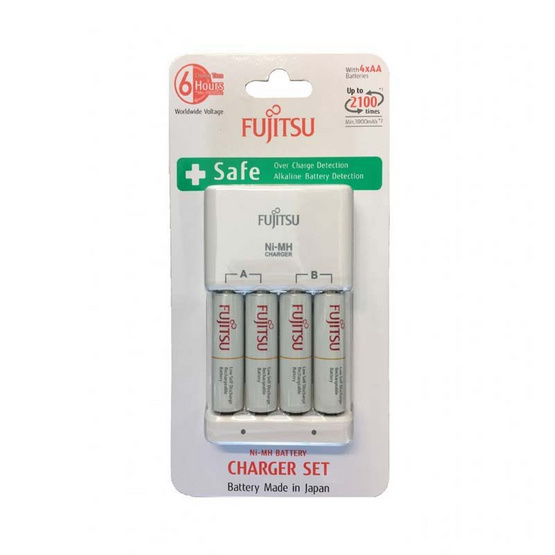Battery: (242, 287, 281, 419), (277, 287, 315, 419), (312, 290, 349, 419), (208, 288, 245, 417)
